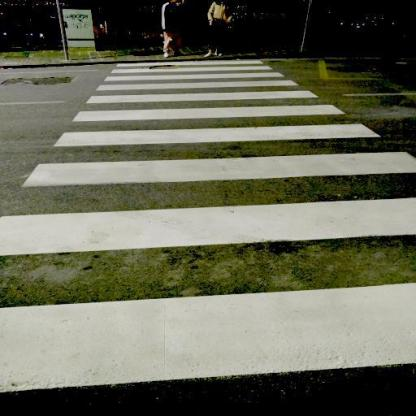crosswalk: (0, 195, 416, 409), (46, 100, 385, 150), (108, 61, 276, 75)
